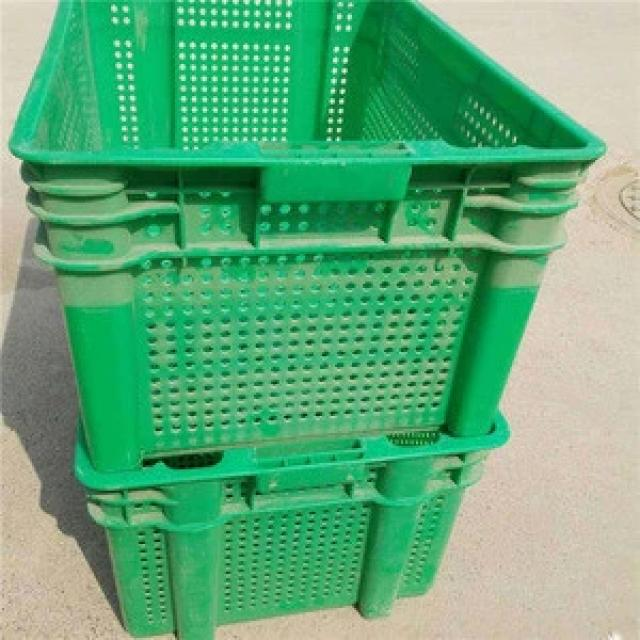basket: (11, 0, 608, 640)
